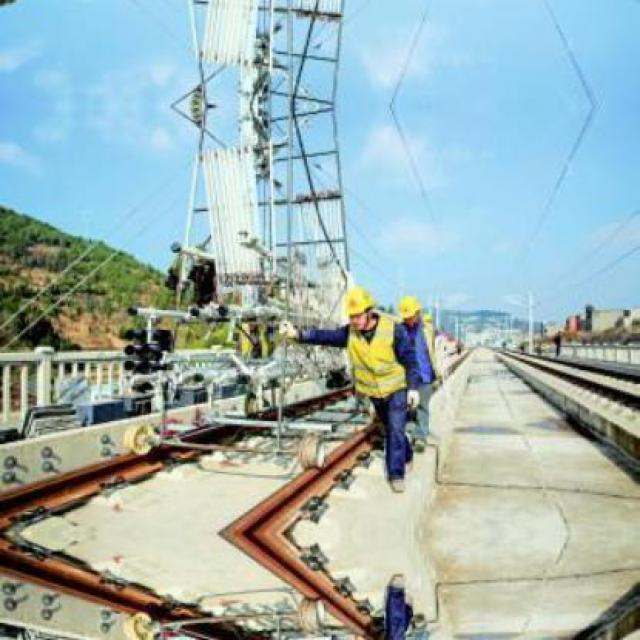hat: (339, 286, 376, 316), (394, 294, 424, 320)
